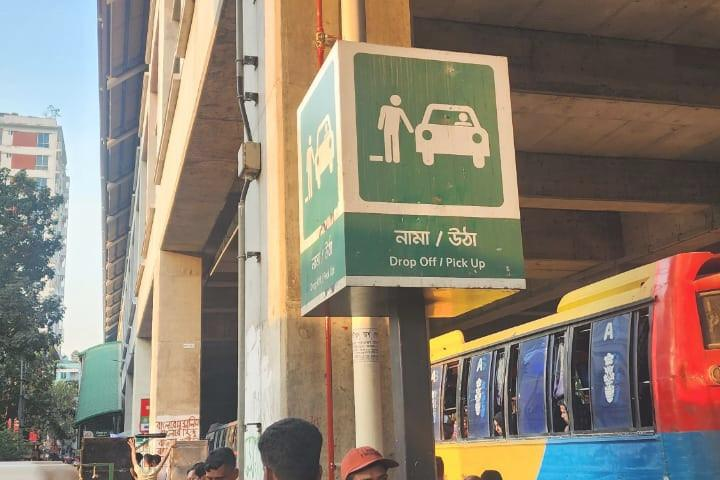Metro Dorp Up Pick up: (295, 37, 527, 311)
